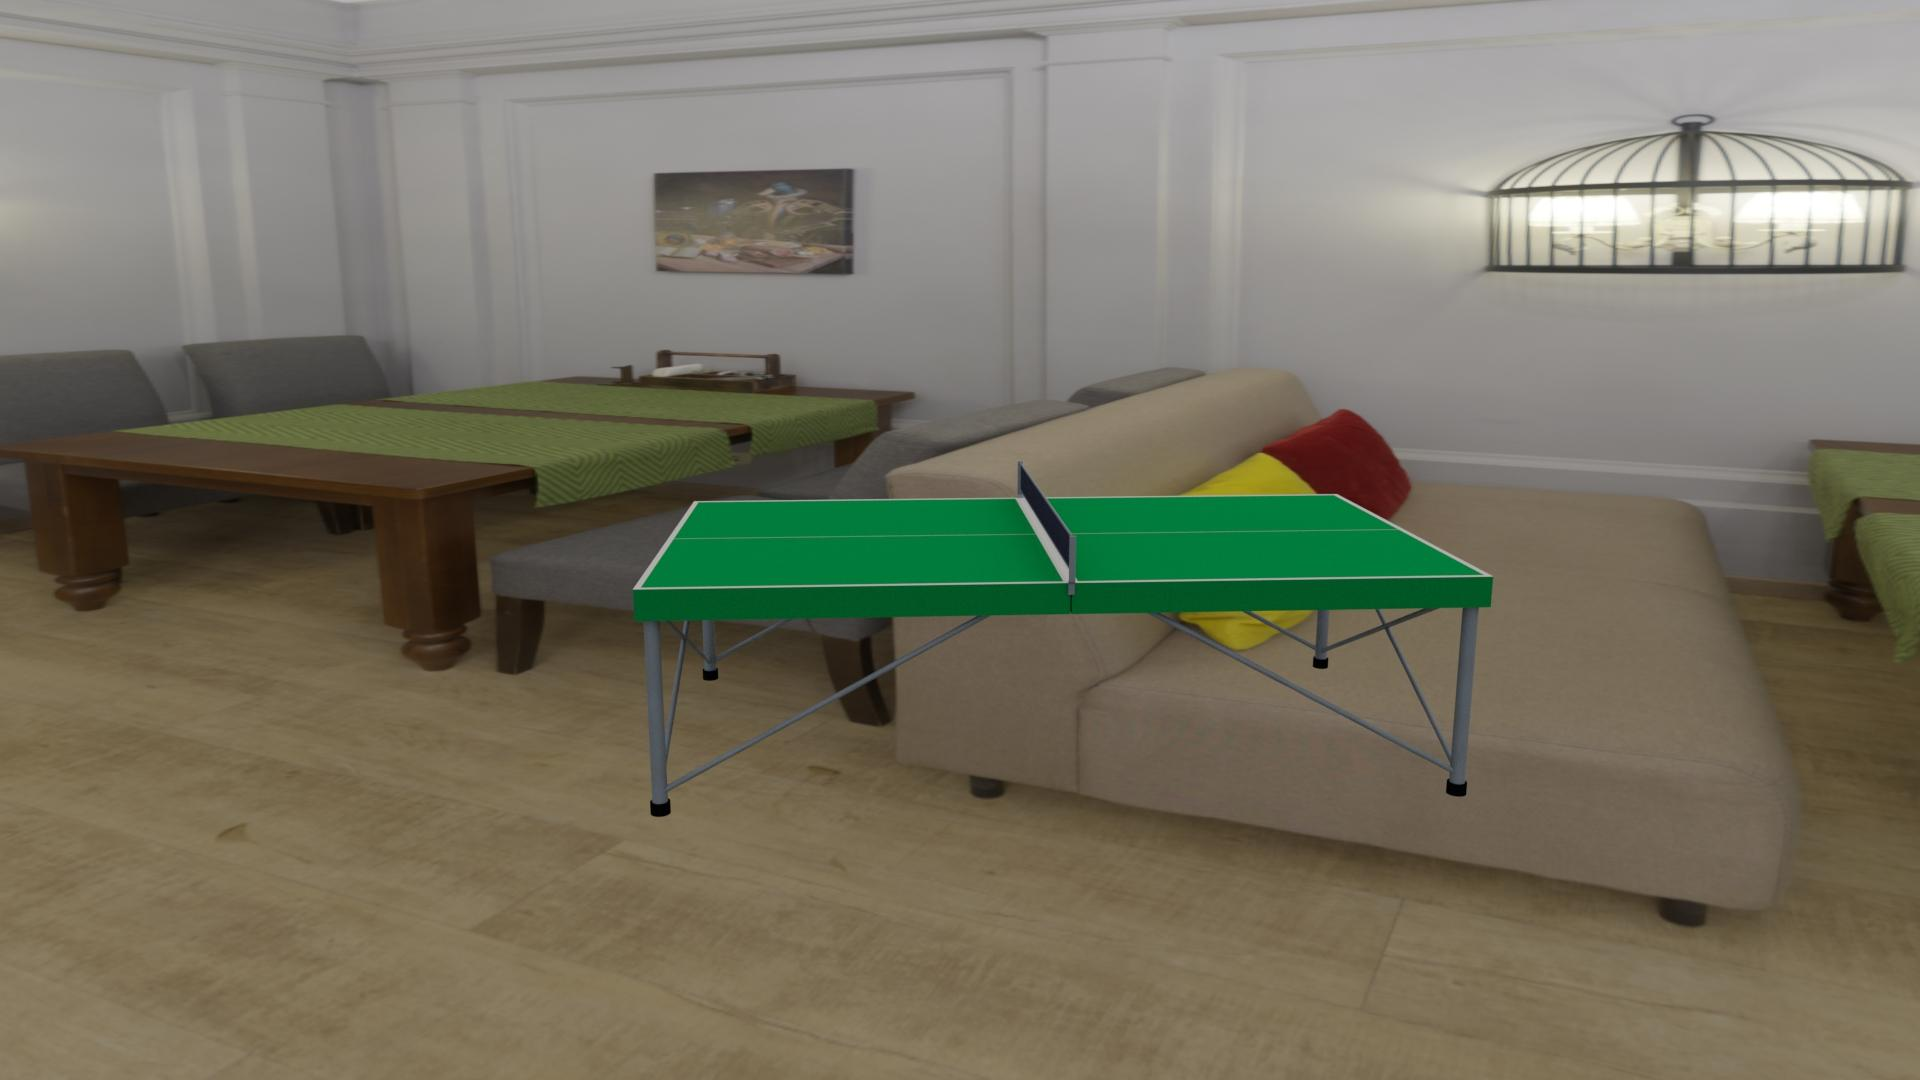table: (641, 495, 1485, 588)
